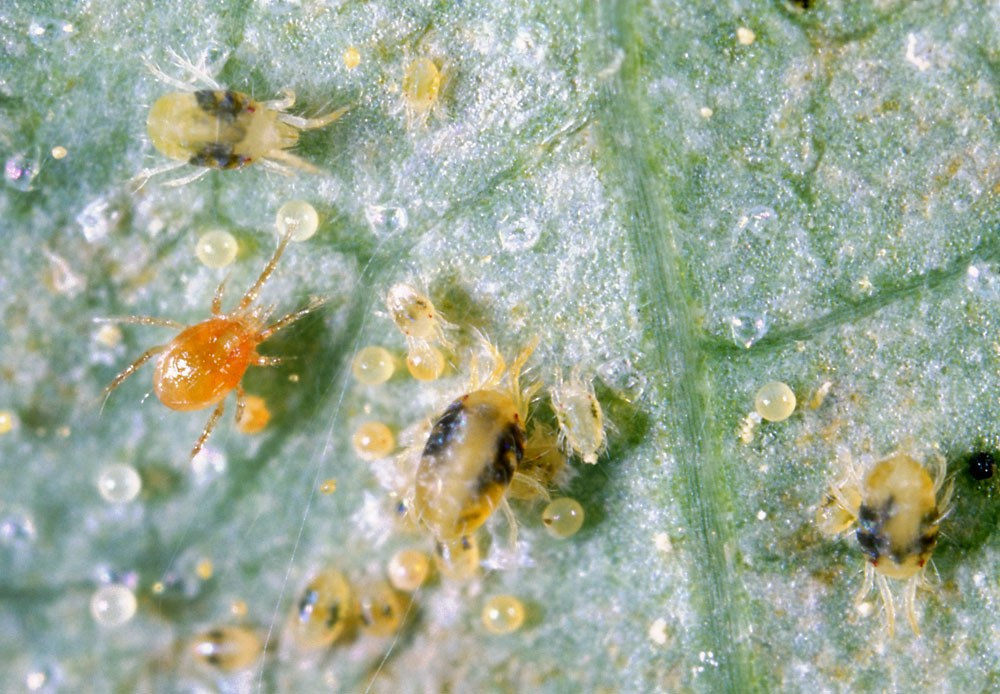Mites: (75, 256, 325, 460), (103, 41, 321, 188), (830, 423, 967, 642), (373, 392, 546, 520)
